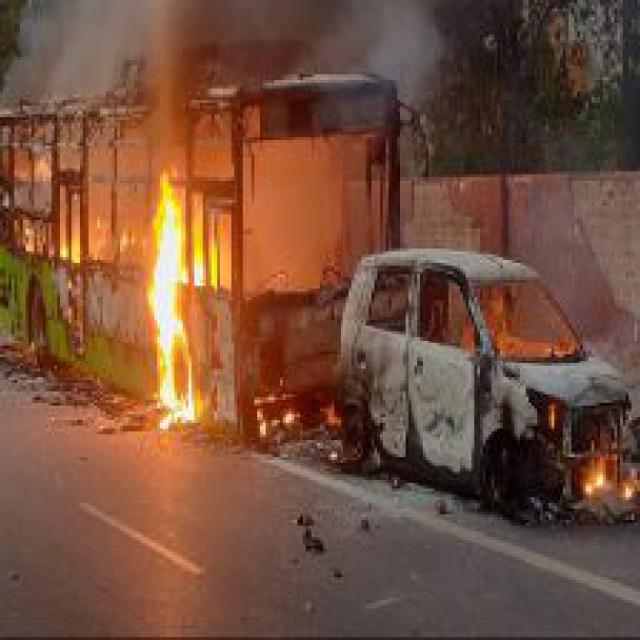fire: (128, 154, 232, 437)
